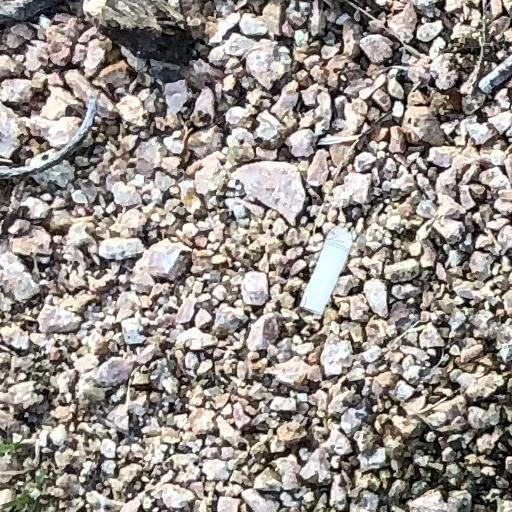smoke: (300, 224, 356, 314)
